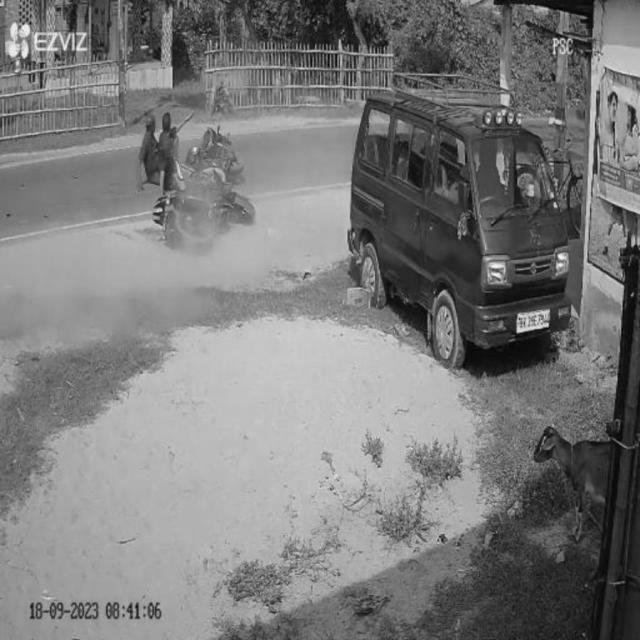person: (137, 112, 167, 188), (163, 102, 188, 172)
vehicle: (351, 86, 572, 364), (160, 162, 254, 250), (187, 118, 244, 172)
